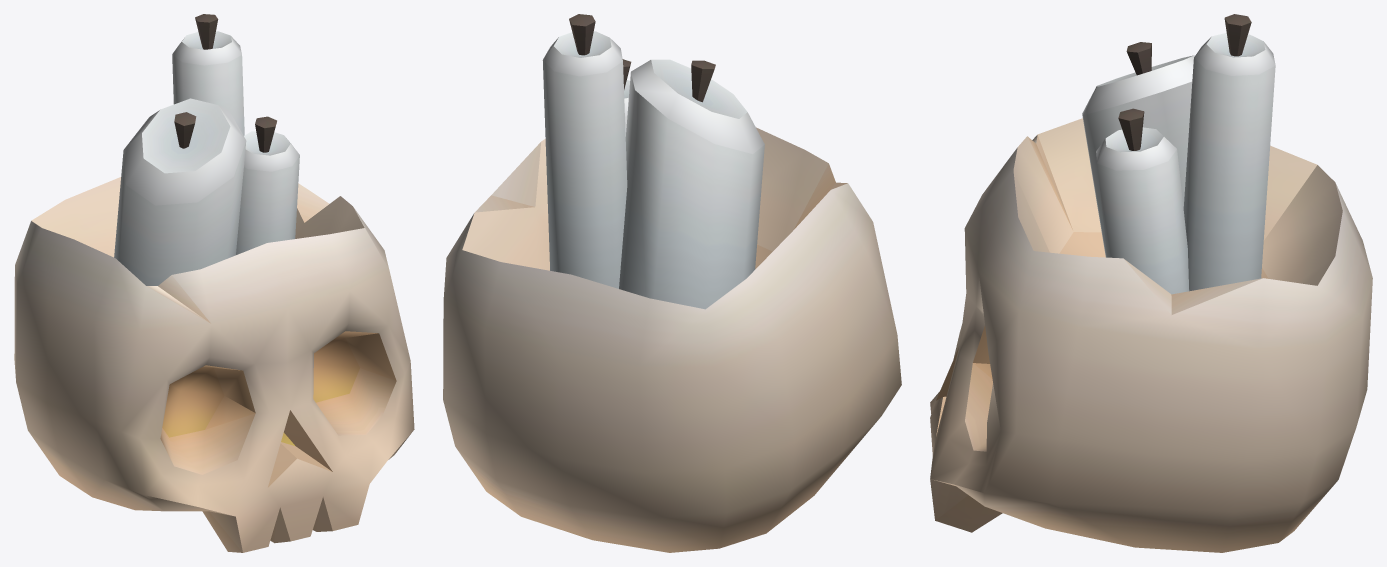
File: skull_candle.glb
The picture shows the model from 3 angles, left to right: view 1: azimuth 30°, elevation 25°; view 2: azimuth 150°, elevation 25°; view 3: azimuth 270°, elevation 25°; orthographic projection. The views are drawn at different scales.
Parts seen in each view (by area): view 1: skull_candle; view 2: skull_candle; view 3: skull_candle.
Part boxes in pixels (x1,y1,x2,y2): skull_candle: [14, 14, 414, 552]; skull_candle: [443, 14, 901, 552]; skull_candle: [930, 14, 1372, 552].
Bounding box in the file's own units: 0.9176 × 1.19 × 0.9361.
Materials: 1 (1 with a texture image).
